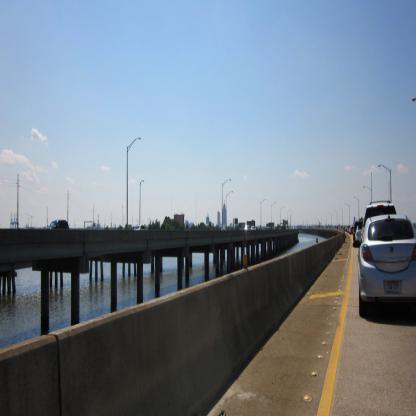Car: (345, 198, 416, 316)
